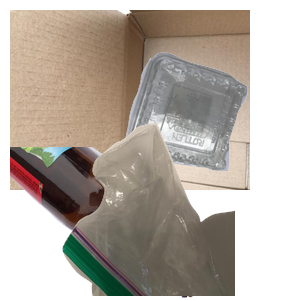cardboard: (10, 10, 250, 190)
glass: (10, 147, 207, 300)
plastic: (123, 50, 300, 214)
trash: (60, 120, 300, 300)
